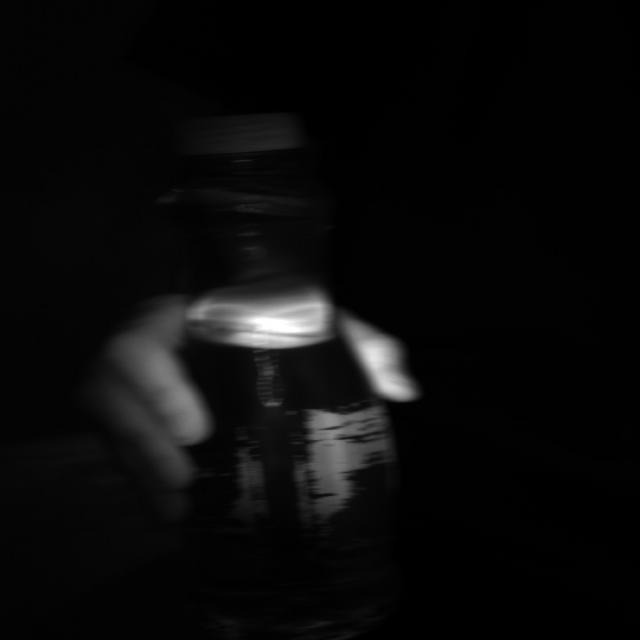Good: (185, 281, 336, 352)
